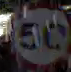Speed limit: (7, 2, 70, 68)
